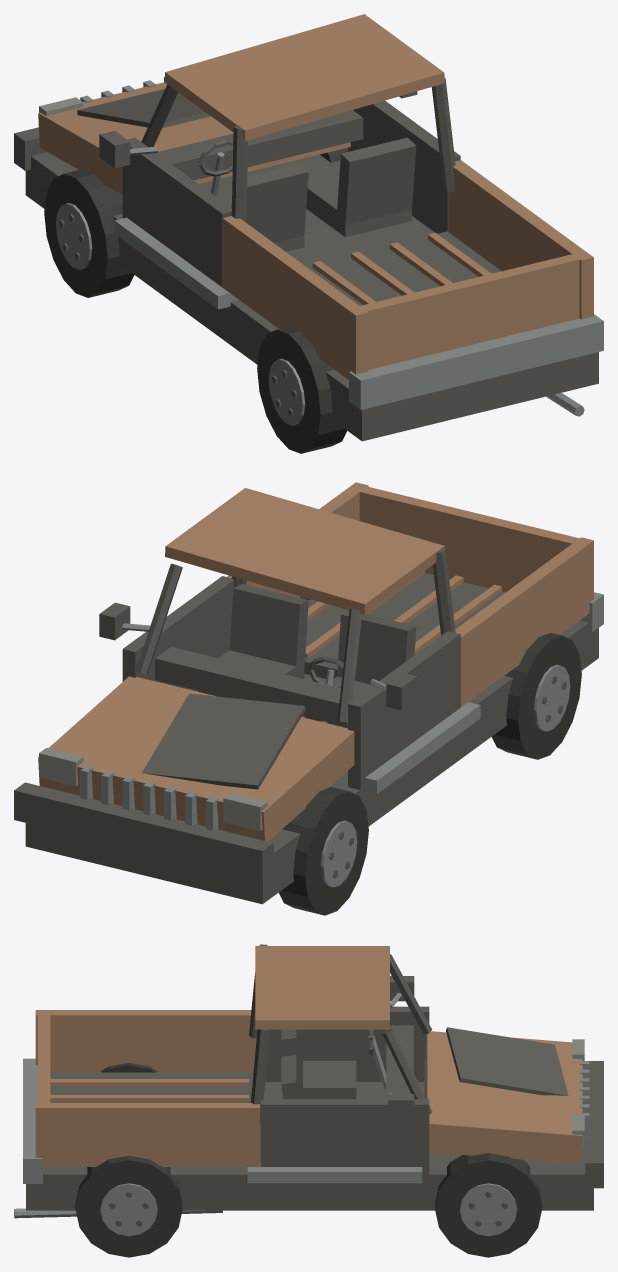
File: wreck_pickup_a.glb
3 renders of one model, top to bottom at view 1: azimuth 30°, elevation 25°; view 2: azimuth 150°, elevation 25°; view 3: azimuth 270°, elevation 25°, orthographic. The views are drawn at different scales.
Visible parts, largest first — view 1: LOD0; view 2: LOD0; view 3: LOD0.
Part boxes in pixels (x1,y1,x2,y2): LOD0: (14, 14, 603, 453); LOD0: (14, 482, 603, 915); LOD0: (14, 944, 603, 1257).
Bounding box in the file's own units: 2.36 × 1.99 × 4.73.
